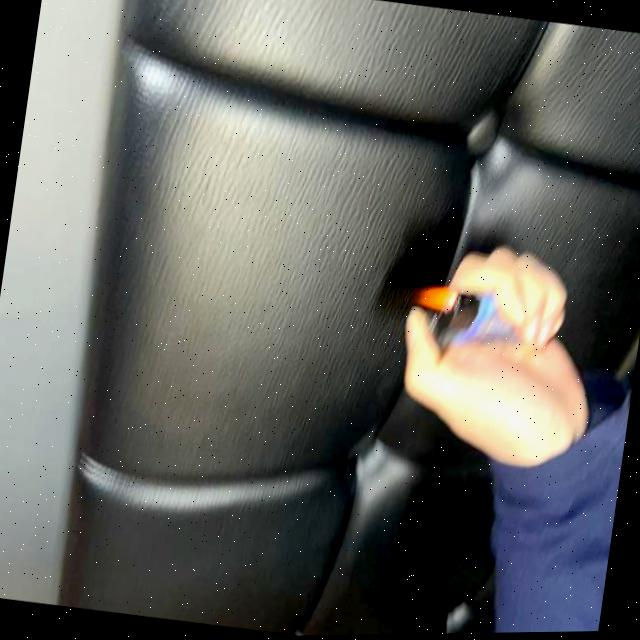Fire: (414, 283, 458, 316)
